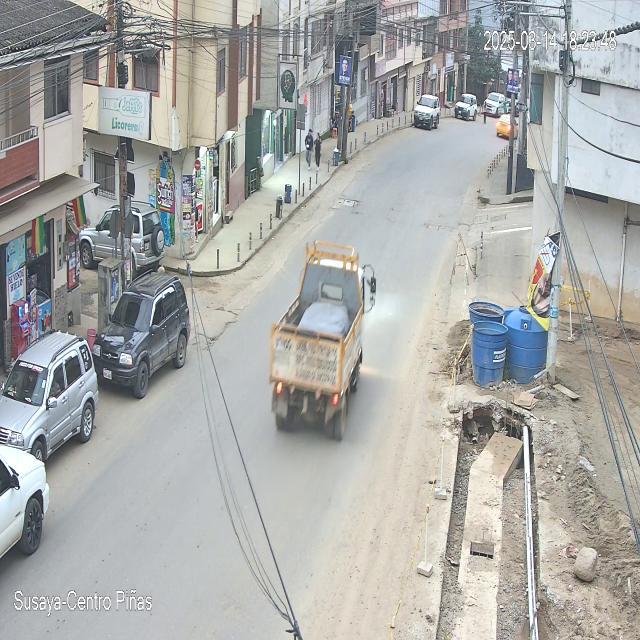SUV: (92, 274, 191, 399)
TRUCK: (270, 244, 376, 443)
